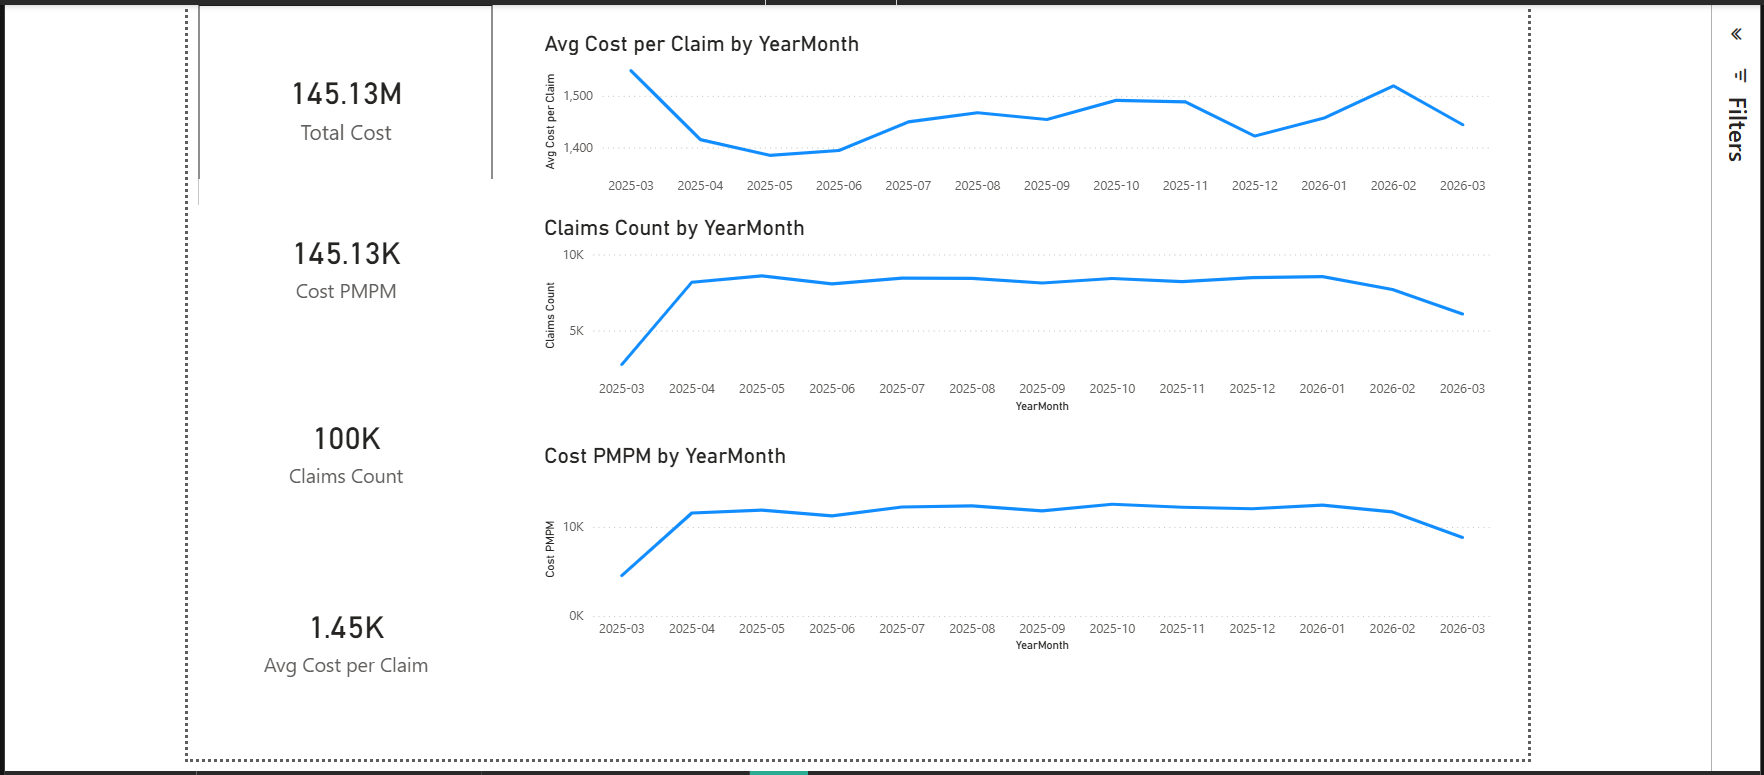

This screenshot's page, from the dashboard's own definition file:
{"tool":"powerbi","page":{"name":"Cost & Utilization Overview","canvas":[1280,720],"ordinal":0},"visuals":[{"type":"card","fields":{"Values":["claims.Total Cost"]},"box":[9.4,0,281.2,190.6],"z":0},{"type":"lineChart","fields":{"Y":["claims.Avg Cost per Claim"],"Category":["Calendar.YearMonth"]},"box":[335.9,24.5,913.3,166.1],"z":1000},{"type":"lineChart","fields":{"Y":["claims.Claims Count"],"Category":["Calendar.YearMonth"]},"box":[335.9,200,913.3,192.5],"z":2000},{"type":"lineChart","fields":{"Y":["claims.Cost PMPM"],"Category":["Calendar.YearMonth"]},"box":[335.9,418.9,913.3,203.8],"z":3000},{"type":"card","fields":{"Values":["claims.Cost PMPM"]},"box":[9.4,166.1,281.2,162.3],"z":4000},{"type":"card","fields":{"Values":["claims.Claims Count"]},"box":[9.4,328.3,281.2,192.5],"z":5000},{"type":"card","fields":{"Values":["claims.Avg Cost per Claim"]},"box":[9.4,520.8,281.2,166.1],"z":6000}]}

Visuals, with their boxes on the page's 1280x720 design canvas (x1, y1, x2, y2). These are canvas units, not pixel positions in the 1764x775 screenshot, which may show the page scaled, cropped or inside an application window:
card - claims.Total Cost: left=9, top=0, right=291, bottom=191
lineChart - claims.Avg Cost per Claim x Calendar.YearMonth: left=336, top=24, right=1249, bottom=191
lineChart - claims.Claims Count x Calendar.YearMonth: left=336, top=200, right=1249, bottom=392
lineChart - claims.Cost PMPM x Calendar.YearMonth: left=336, top=419, right=1249, bottom=623
card - claims.Cost PMPM: left=9, top=166, right=291, bottom=328
card - claims.Claims Count: left=9, top=328, right=291, bottom=521
card - claims.Avg Cost per Claim: left=9, top=521, right=291, bottom=687
